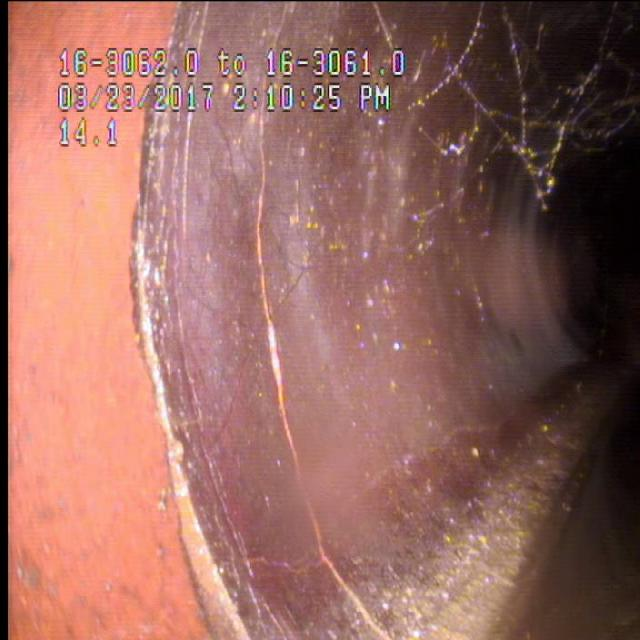Crack: (232, 158, 332, 570)
